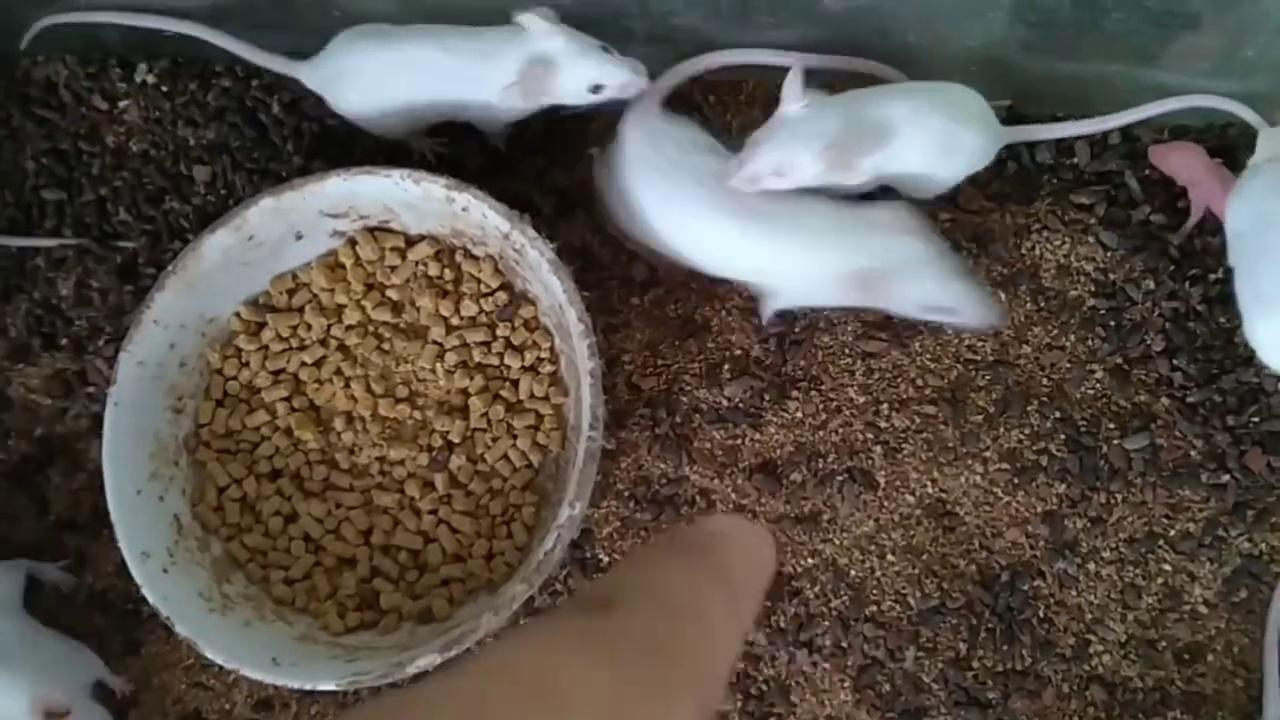rat: (592, 48, 1014, 331), (20, 0, 652, 139), (728, 63, 1272, 198), (0, 558, 134, 720)
